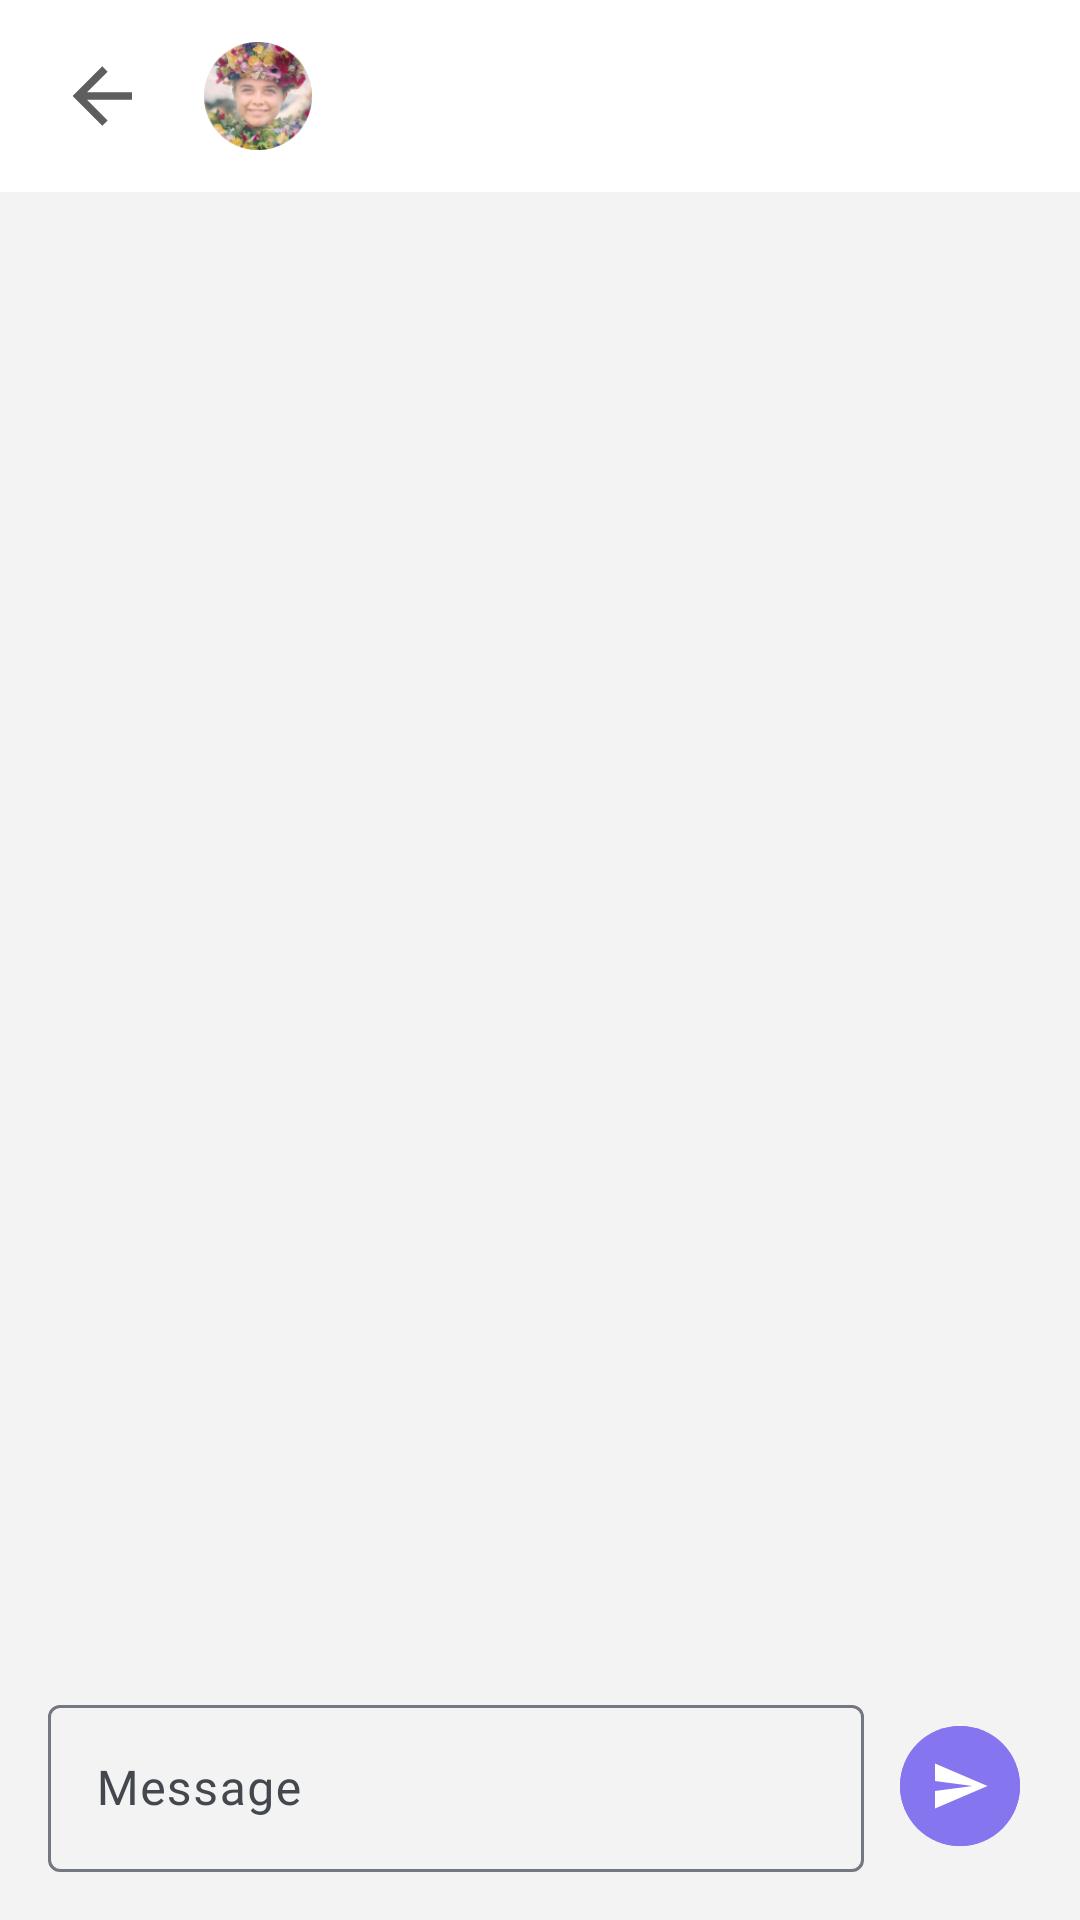

Icons on this 1080*1920 Android screen, each with the point to tap as point (x, y):
back: point (102, 96)
example girl: point (258, 96)
send: point (960, 1786)
